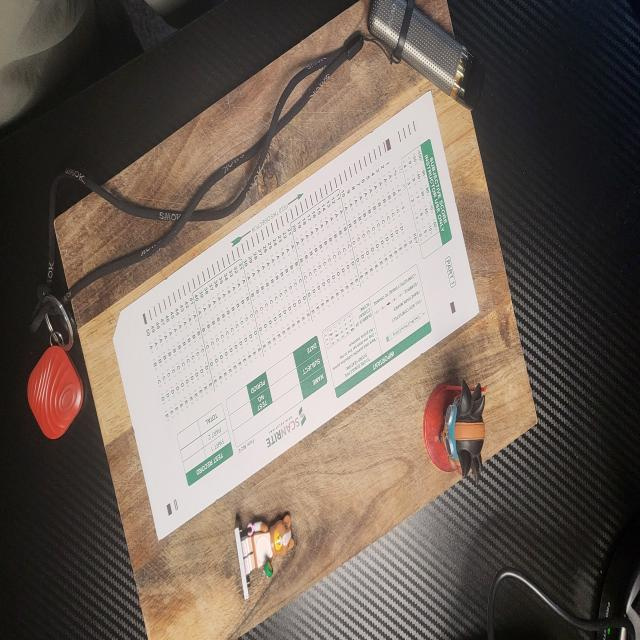scantron: (113, 90, 482, 541)
